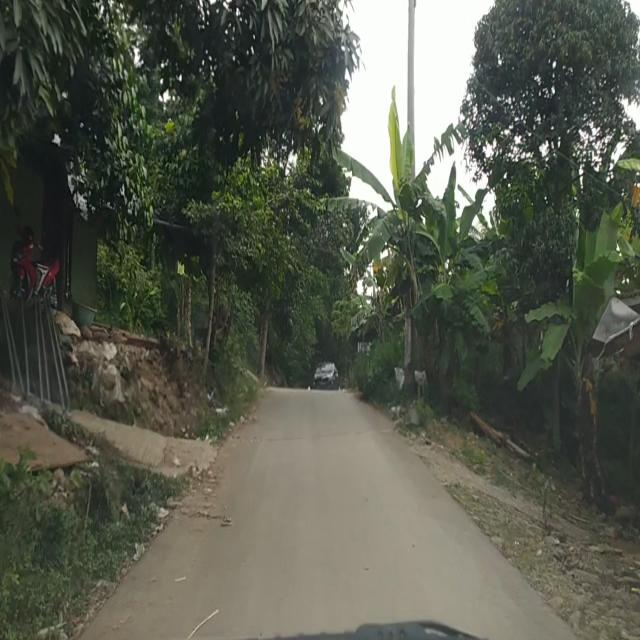Sewer Cover: (267, 431, 369, 443)
